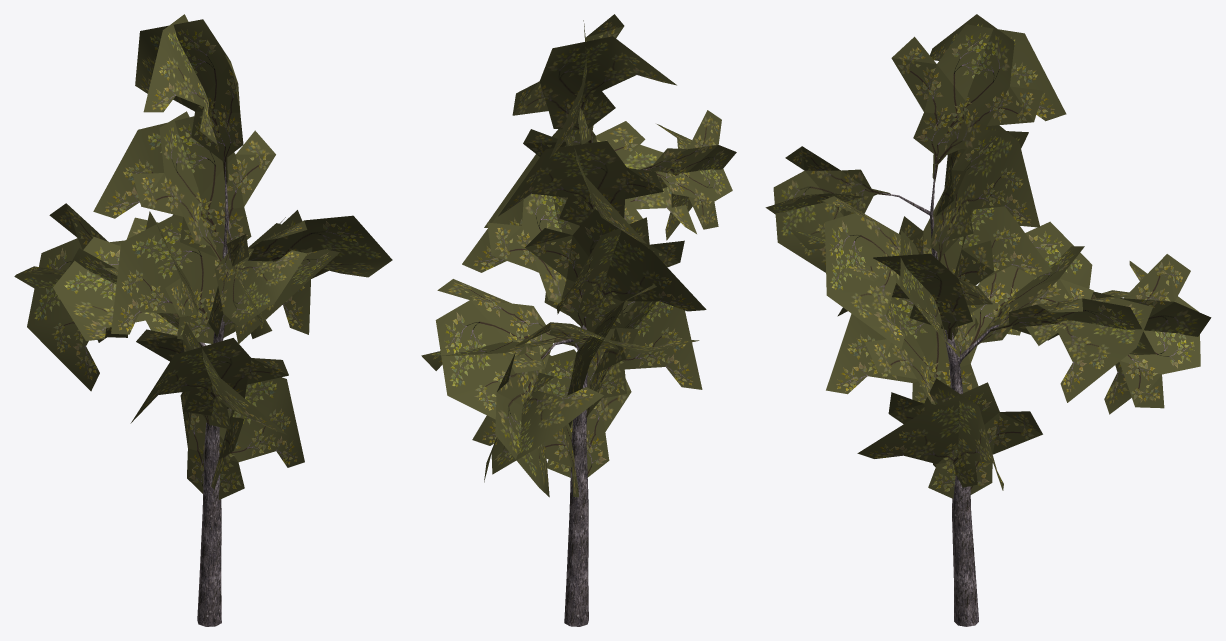
Rendered from bjork2_lod0.fbx.
The picture shows the model from 3 angles, left to right: view 1: azimuth 30°, elevation 25°; view 2: azimuth 150°, elevation 25°; view 3: azimuth 270°, elevation 25°; orthographic projection.
Visible parts, largest first — view 1: Mesh Object; view 2: Mesh Object; view 3: Mesh Object.
Boxes of the visible parts, x1,y1,x2,y2 form: Mesh Object: (14, 14, 392, 626); Mesh Object: (421, 14, 736, 626); Mesh Object: (765, 14, 1211, 626).
Bounding box in the file's own units: 9.53 × 22.1 × 15.03.
